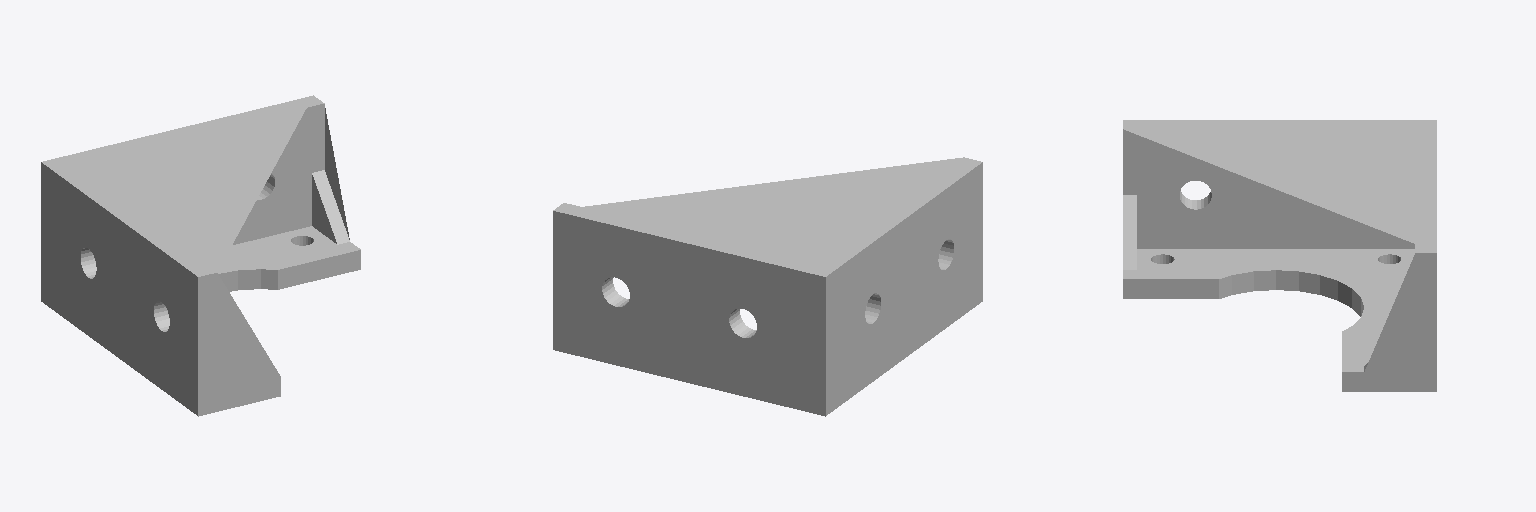
The model's file is Motor Holder.obj.
The picture shows the model from 3 angles: view 1: azimuth 30°, elevation 25°; view 2: azimuth 150°, elevation 25°; view 3: azimuth 270°, elevation 25°; orthographic projection.
Visible parts, largest first — view 1: Mesh1 Model; view 2: Mesh1 Model; view 3: Mesh1 Model.
Boxes of the visible parts, <box> form: Mesh1 Model: <box>41,95,360,416</box>; Mesh1 Model: <box>553,157,982,416</box>; Mesh1 Model: <box>1123,120,1436,391</box>.
Bounding box in the file's own units: 43 × 21 × 43.